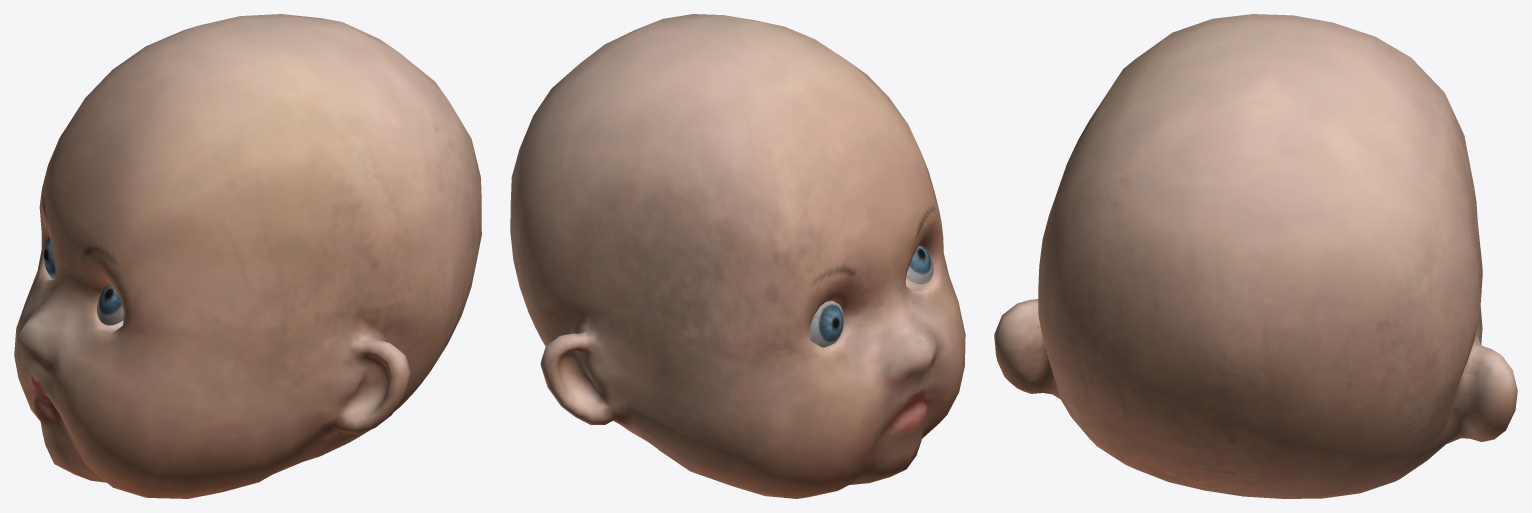
File: SM_BabyDolls_Head.fbx
The picture shows the model from 3 angles, left to right: view 1: azimuth 30°, elevation 25°; view 2: azimuth 150°, elevation 25°; view 3: azimuth 270°, elevation 25°; orthographic projection. The views are drawn at different scales.
Visible parts, largest first — view 1: SM_BabyDolls_Head; view 2: SM_BabyDolls_Head; view 3: SM_BabyDolls_Head.
Part boxes in pixels (<box>): SM_BabyDolls_Head: <box>14,14,481,498</box>; SM_BabyDolls_Head: <box>510,14,965,498</box>; SM_BabyDolls_Head: <box>994,14,1517,498</box>.
Bounding box in the file's own units: 7.17 × 6.87 × 6.66.
1 material, 1 textured.
